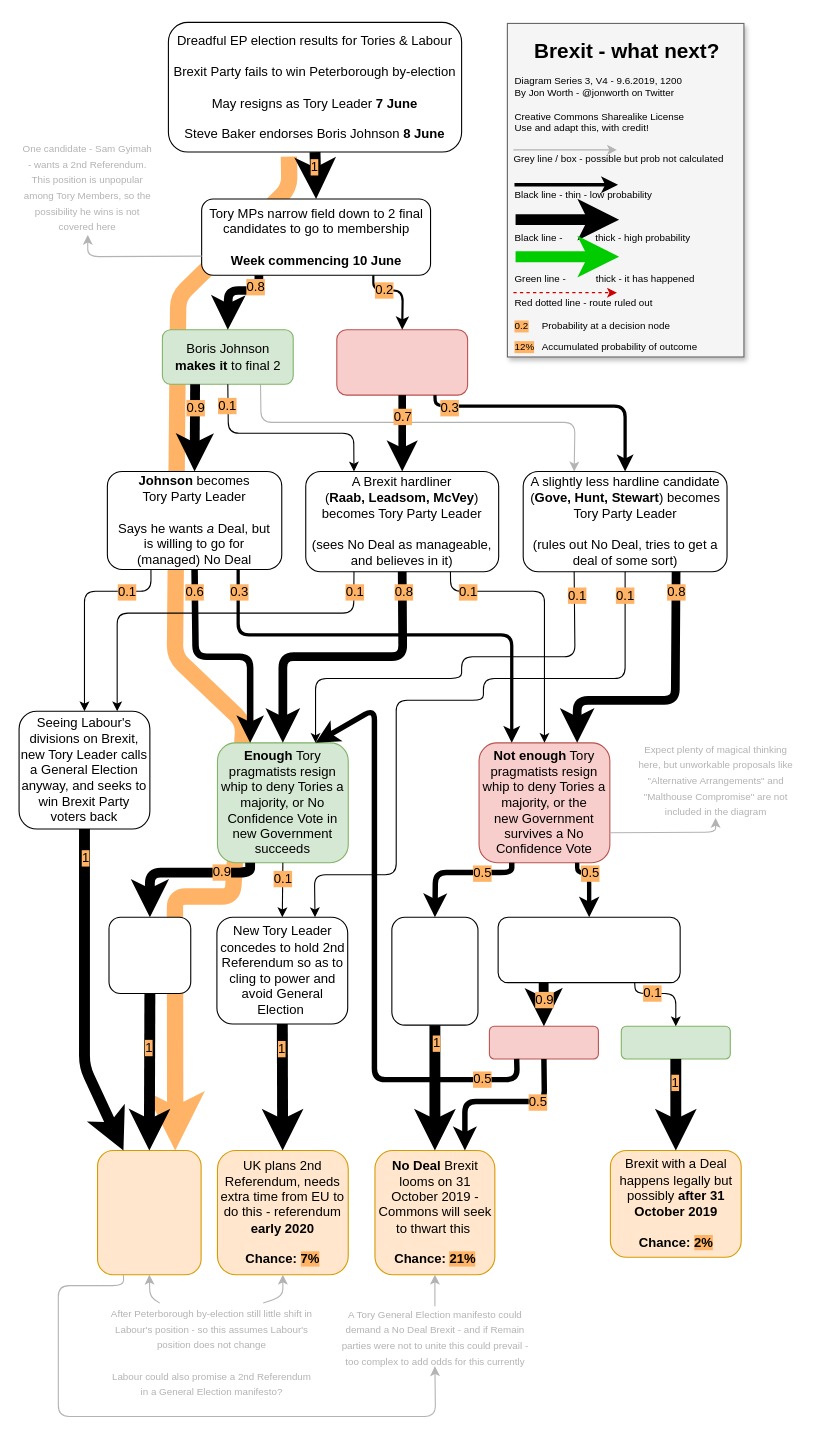
Image size: 819x1444. Some labels were removed from this diagram. Each missing label, with the centre of its shape:
Boris Johnson doesn't make it to final 2: point 402,362
New Tory leader - safe in office for now - goes to 🇪🇺to demand changes to WA: point 588,949
New Tory leader sees no route other than No Deal Brexit: point 434,970
No majority for new Tory Leader in Commons: point 149,955
UK heads for a General Election sometime before 31 Oct 2019 Chance: 70%: point 148,1212
WA amended: point 675,1042
WA not amended: point 543,1042
